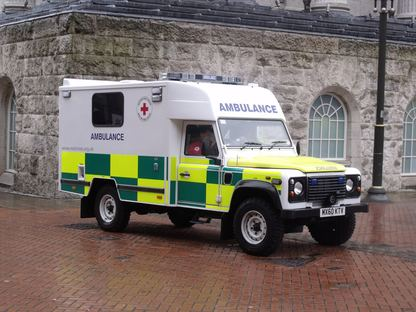ambulance: (57, 71, 368, 255)
